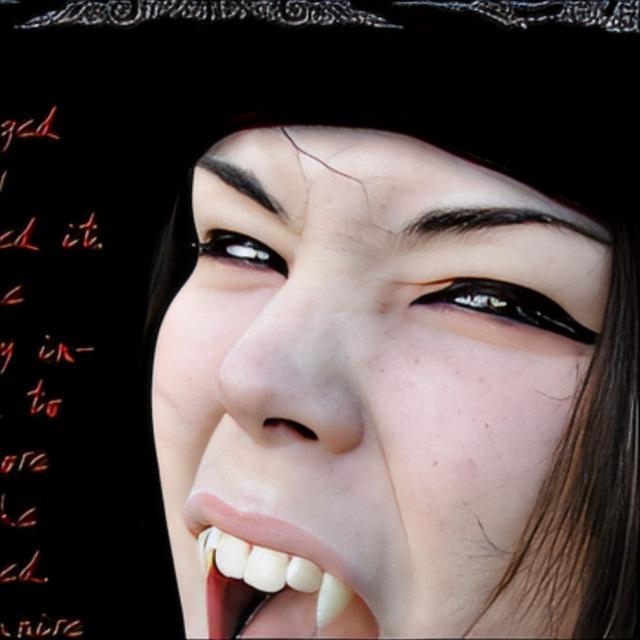disgust: (148, 120, 618, 640)
